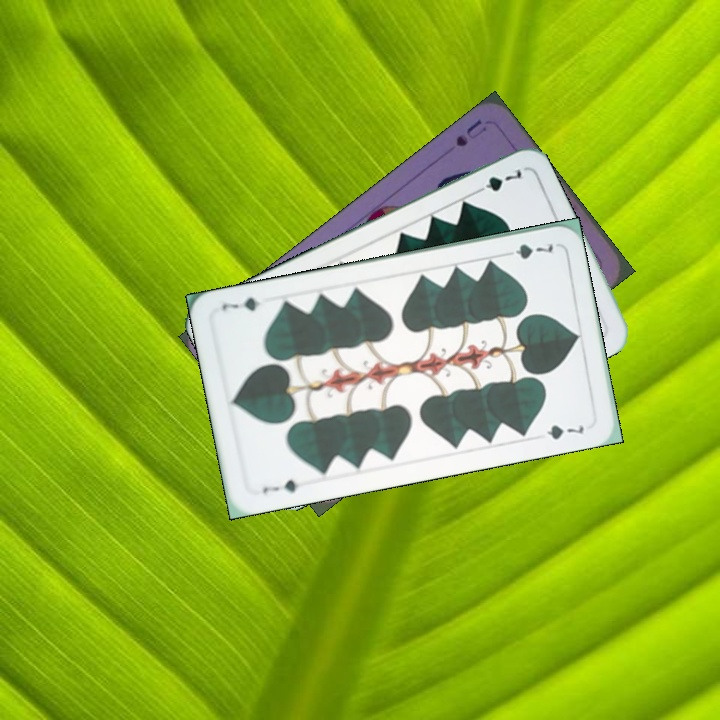G7: (469, 165, 525, 197), (498, 239, 556, 262), (259, 475, 302, 499)
SU: (451, 115, 489, 150)
